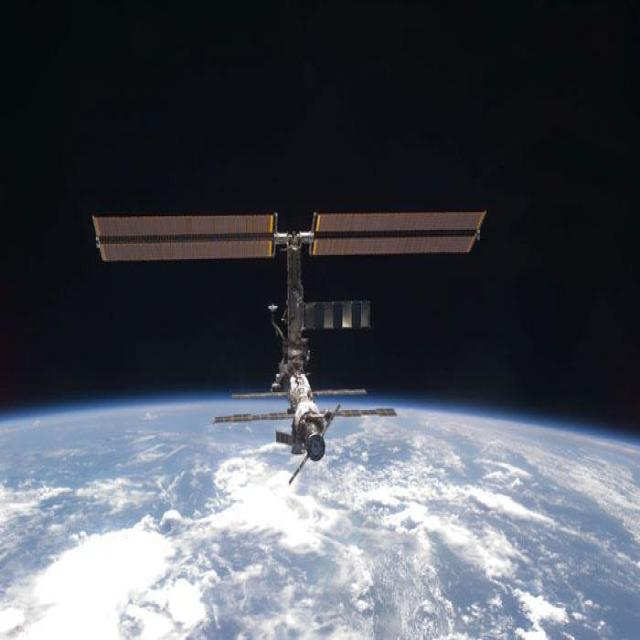satellite: (92, 212, 486, 459)
